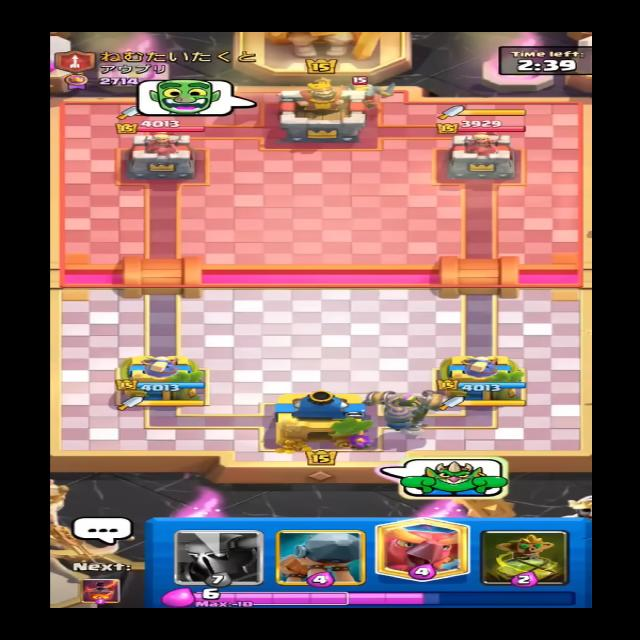knight: (340, 73, 397, 108)
